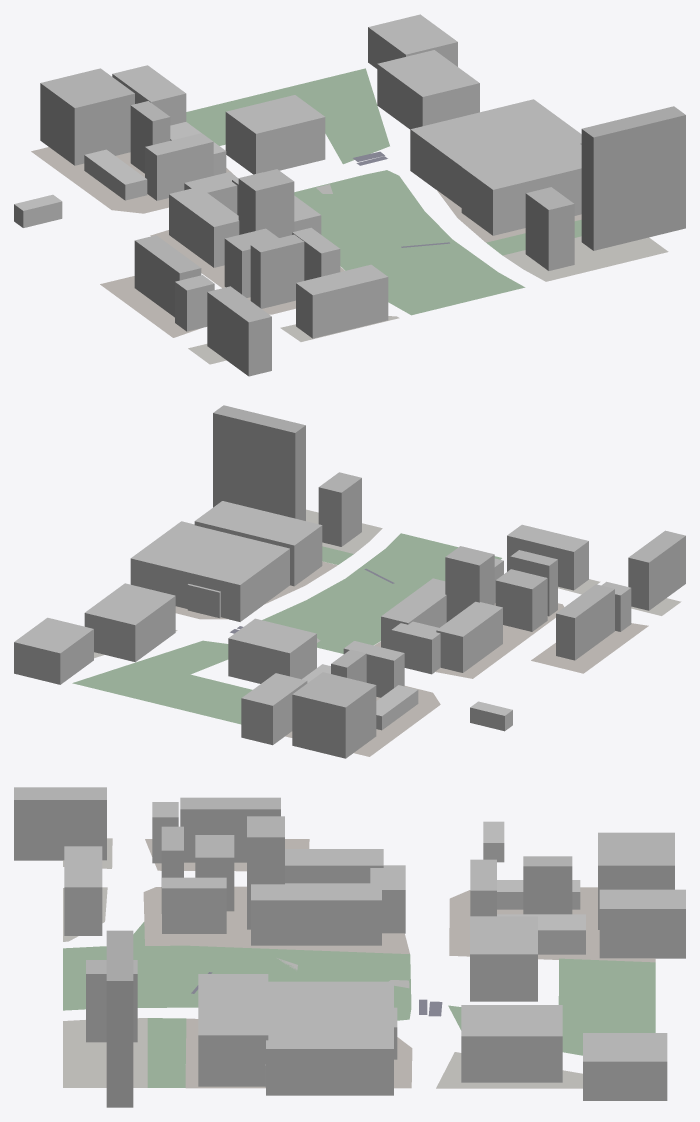
File: 114_76_mid.glb
3 views of the same model, one above another, from view 1: azimuth 30°, elevation 25°; view 2: azimuth 150°, elevation 25°; view 3: azimuth 270°, elevation 25° (orthographic). The views are drawn at different scales.
Size of the model in its own units: 540 by 121 by 567.
